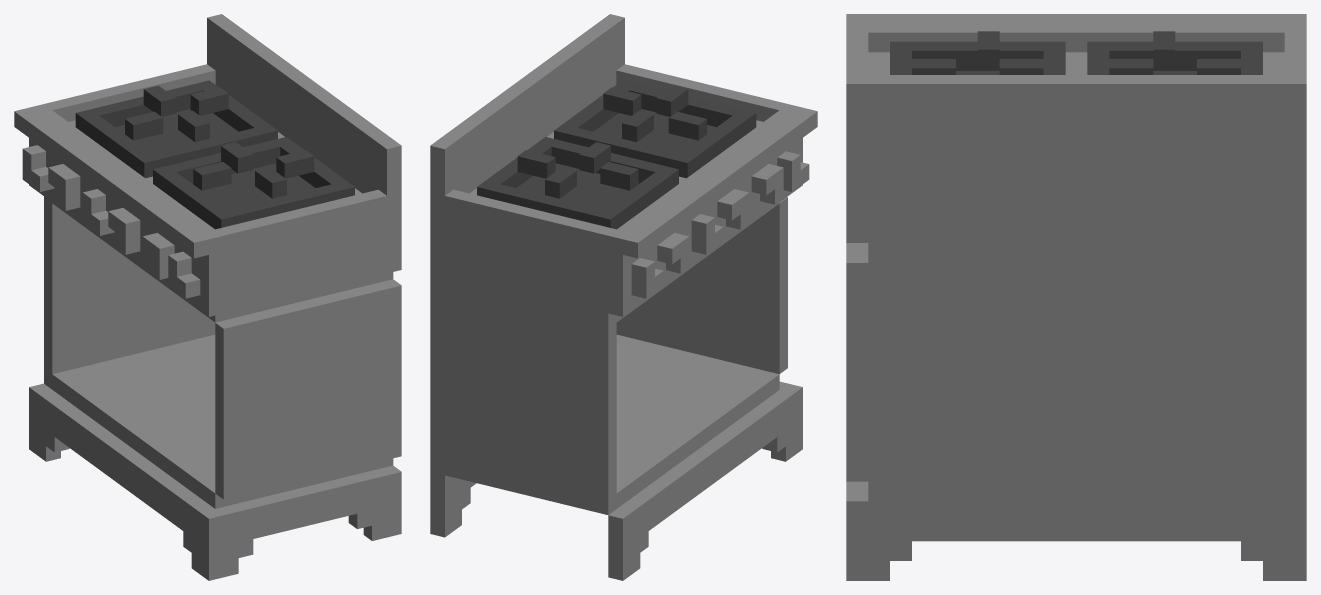
Rendered from Kitchen_cabinets-21.obj.
3 renders of one model, left to right at view 1: azimuth 30°, elevation 25°; view 2: azimuth 150°, elevation 25°; view 3: azimuth 270°, elevation 25°, orthographic. The views are drawn at different scales.
Size of the model in its own units: 1.4 by 2.5 by 2.1.
Materials: 1 (1 with a texture image).
